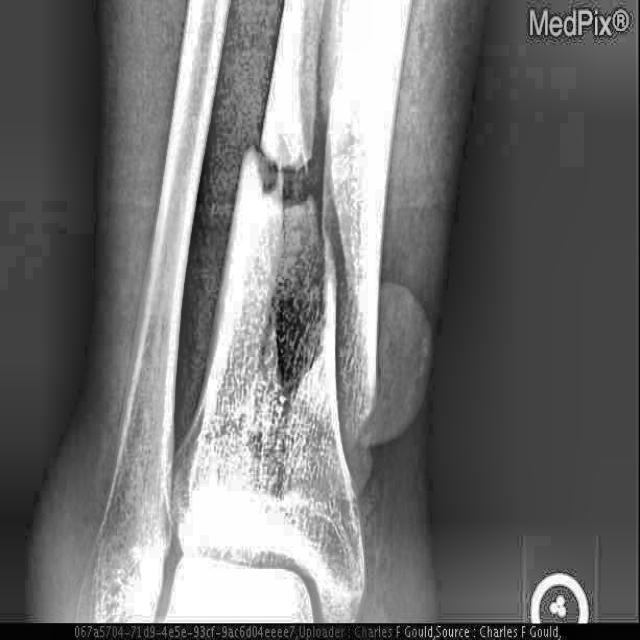messed_up_angle: (233, 3, 382, 470)
